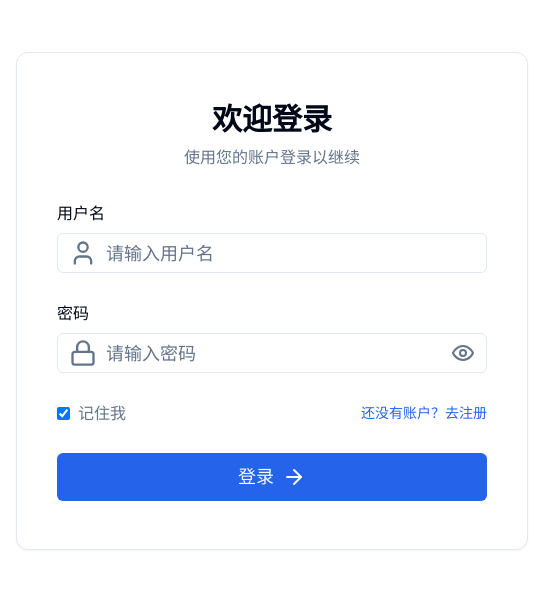
Test: LoginPage Component › 登录失败时应显示错误反馈且不导航
Type "admin" into the field labelled "用户名" at (272, 253), box [57,233,487,273]
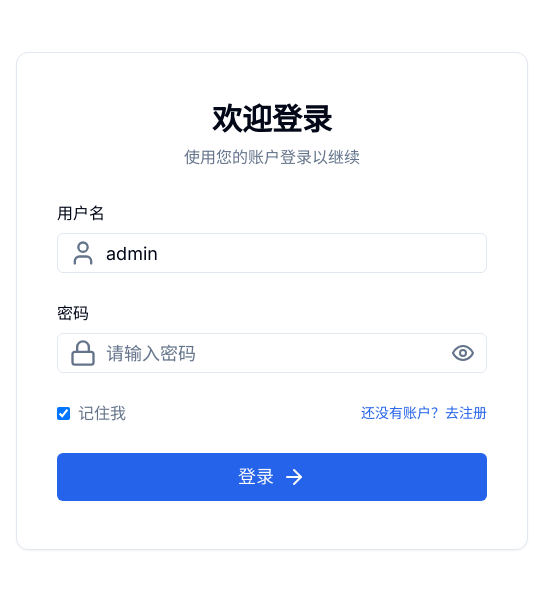
Type "123456" into the password field labelled "密码" at (272, 353), box [57,333,487,373]
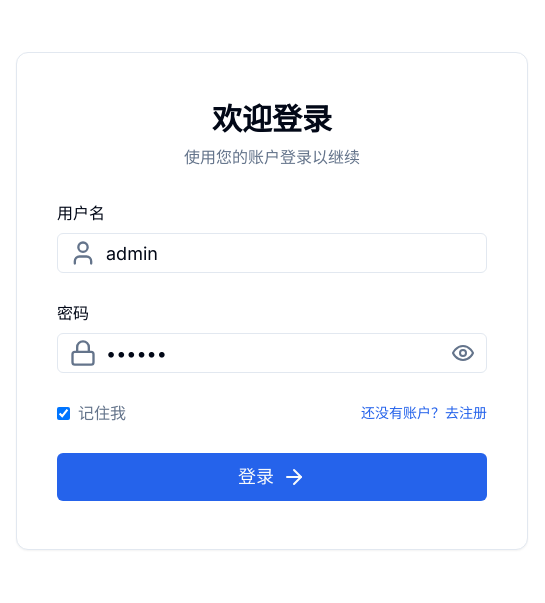
Submit the form "用户名 密码 记住我 还没有账户？去注册 登录", box [57,201,487,501]
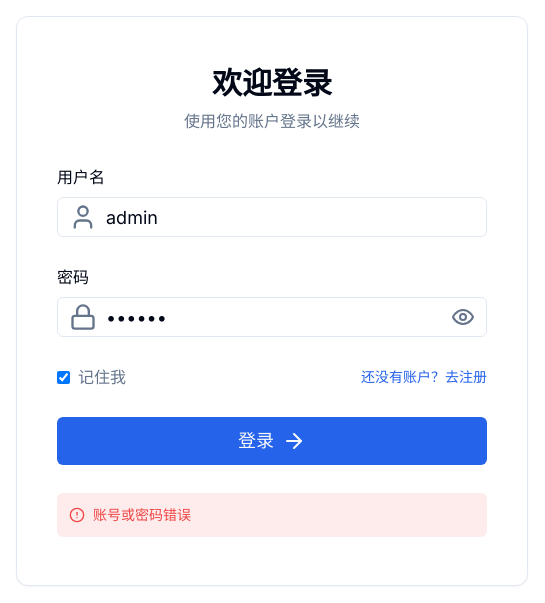
Expected: the text "账号或密码错误" is shown, [57,493,487,537]
